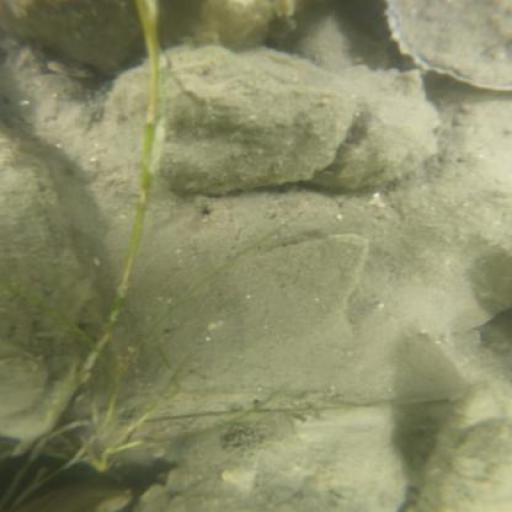Oyster-Closed: (130, 407, 407, 512), (155, 44, 350, 192), (2, 141, 93, 443), (321, 61, 437, 190), (15, 2, 144, 70)
Oyster-Open: (419, 399, 512, 512)
